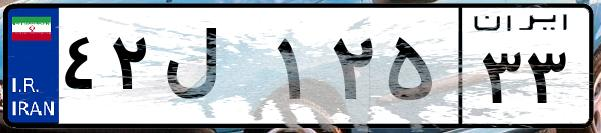1: (270, 28, 330, 110)
2: (330, 28, 385, 110), (110, 28, 158, 98)
3: (475, 38, 525, 113), (525, 38, 570, 115)
4: (57, 26, 110, 100)
5: (385, 28, 445, 110)
ل: (158, 20, 270, 120)
